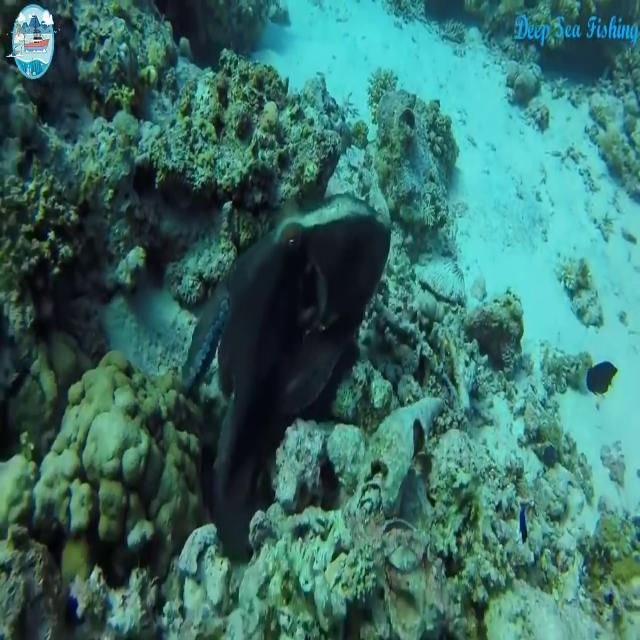octopus: (181, 188, 390, 560)
